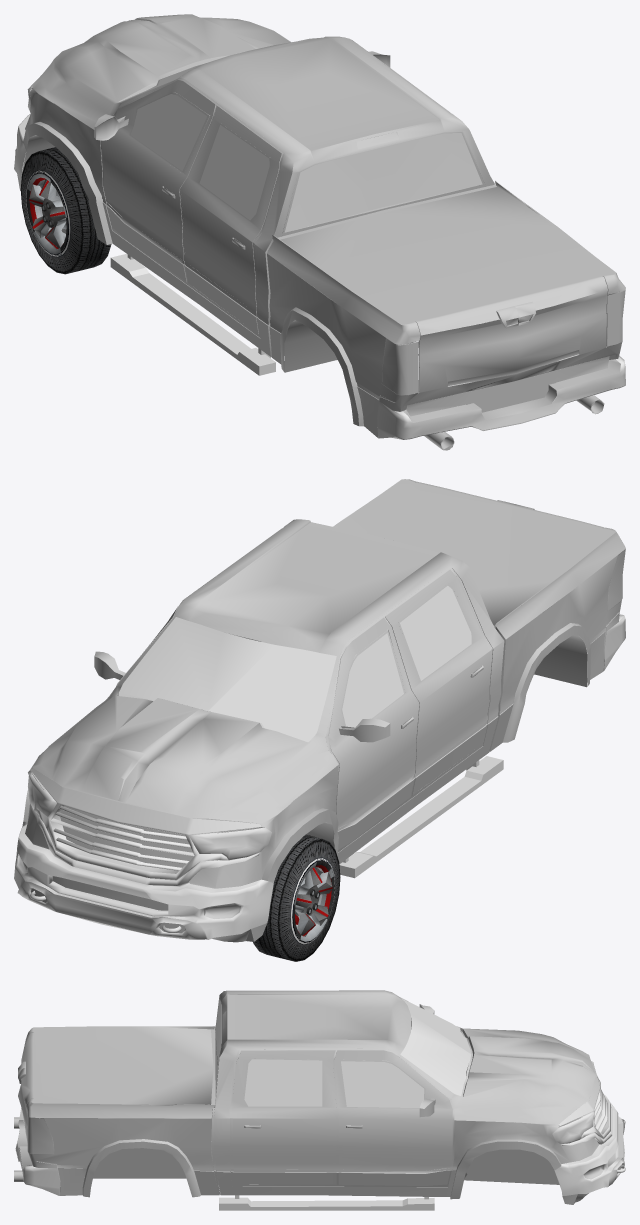
File: 2019 long truck.fbx
The picture shows the model from 3 angles, top to bottom: view 1: azimuth 30°, elevation 25°; view 2: azimuth 150°, elevation 25°; view 3: azimuth 270°, elevation 25°; orthographic projection. The views are drawn at different scales.
Visible parts, largest first — view 1: 2019 long truck body, 2019 long truck glass, 2019 long truck interior, 2019 long truck metal, 2019 long truck tire; view 2: 2019 long truck body, 2019 long truck metal, 2019 long truck glass, 2019 long truck interior, 2019 long truck tire; view 3: 2019 long truck body, 2019 long truck glass, 2019 long truck metal, 2019 long truck interior.
Part boxes in pixels (x1,y1,x2,y2): 2019 long truck body: [23, 14, 625, 437]; 2019 long truck glass: [27, 47, 482, 232]; 2019 long truck interior: [17, 51, 625, 450]; 2019 long truck metal: [14, 87, 625, 439]; 2019 long truck tire: [20, 147, 111, 274]; 2019 long truck body: [23, 479, 625, 888]; 2019 long truck metal: [14, 614, 625, 939]; 2019 long truck glass: [28, 586, 471, 860]; 2019 long truck interior: [17, 549, 625, 942]; 2019 long truck tire: [253, 834, 340, 961]; 2019 long truck body: [18, 990, 598, 1199]; 2019 long truck glass: [215, 998, 593, 1143]; 2019 long truck metal: [15, 1062, 625, 1210]; 2019 long truck interior: [14, 1002, 624, 1204].
Size of the model in its own units: 272 by 218 by 674.
